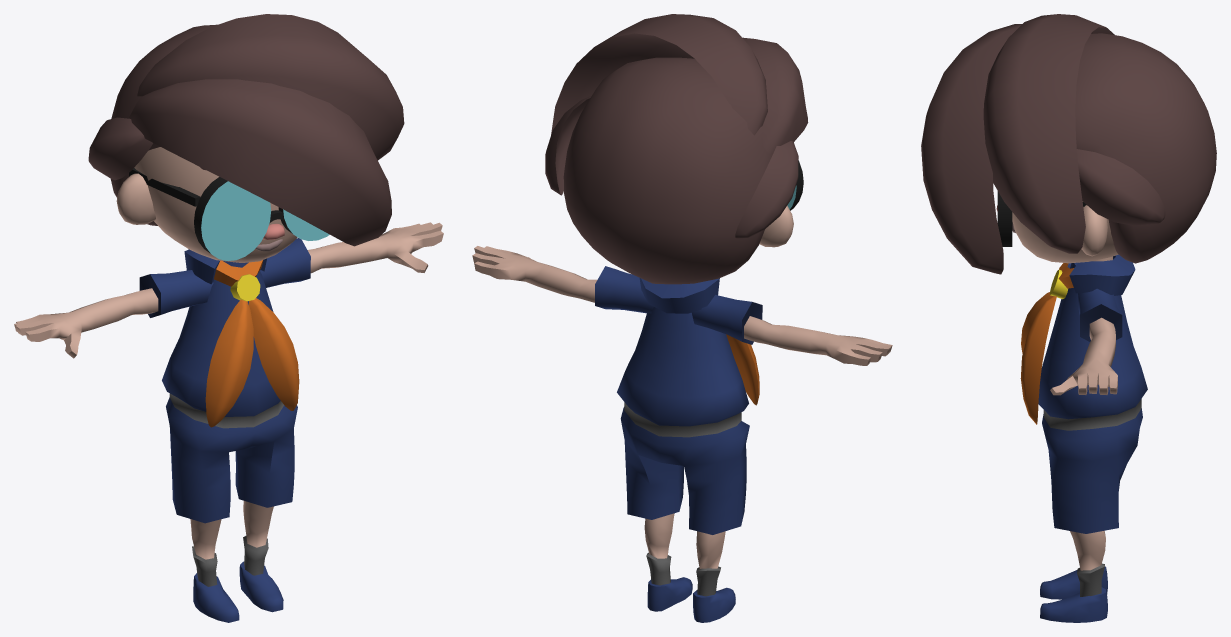
File: Lina.fbx
3 renders of one model, left to right at view 1: azimuth 30°, elevation 25°; view 2: azimuth 150°, elevation 25°; view 3: azimuth 270°, elevation 25°, orthographic. The views are drawn at different scales.
Parts seen in each view (by area): view 1: Connect; view 2: Connect; view 3: Connect.
Part boxes in pixels (box(x1,y1,x2,y2)): Connect: box(14, 14, 443, 622); Connect: box(472, 14, 892, 622); Connect: box(921, 14, 1216, 622).
Bounding box in the file's own units: 102 × 133 × 61.72.
1 material, 1 textured.
